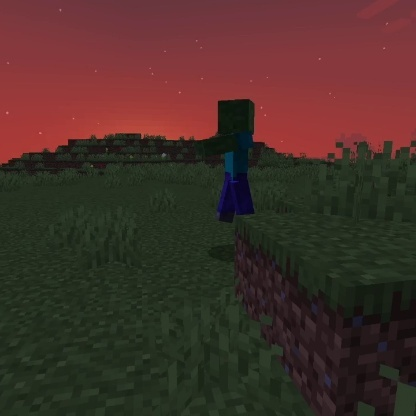zombie: (196, 97, 260, 225)
